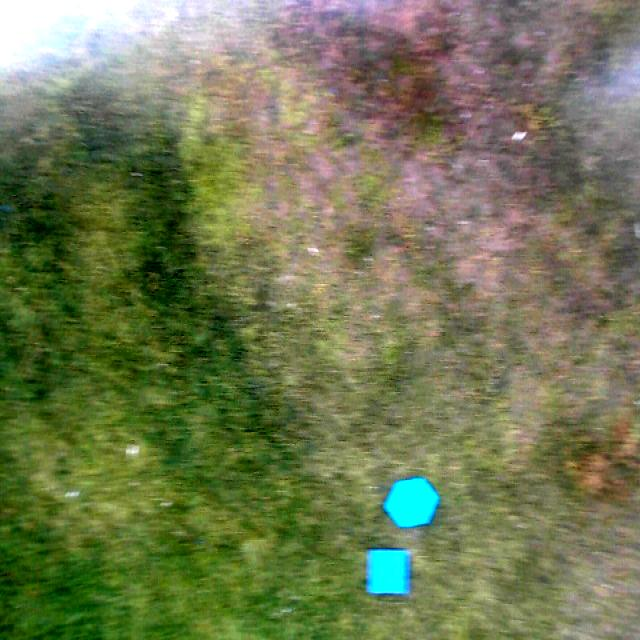blue_hexagon: (387, 476, 438, 526)
blue_square: (367, 548, 409, 597)
